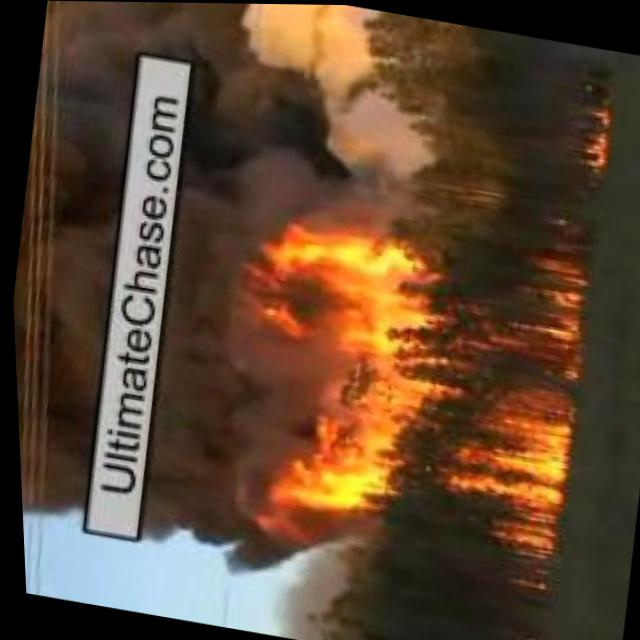Fire: (219, 203, 595, 590), (568, 95, 614, 179)
